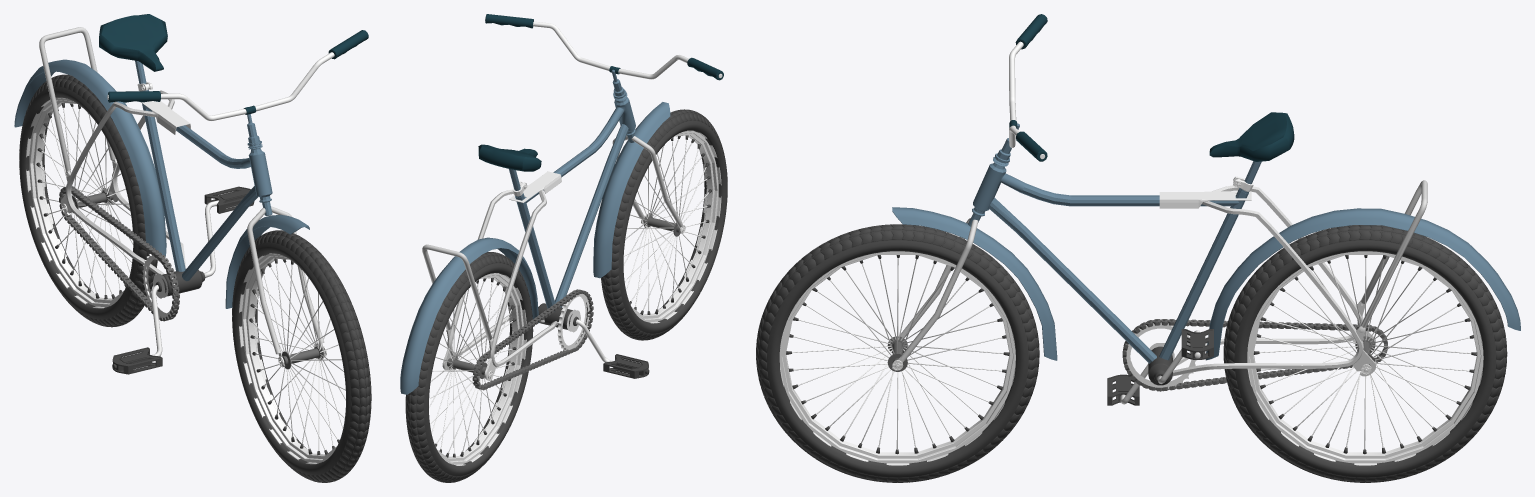
Rendered from Bicycle.fbx.
The picture shows the model from 3 angles, left to right: view 1: azimuth 30°, elevation 25°; view 2: azimuth 150°, elevation 25°; view 3: azimuth 270°, elevation 25°; orthographic projection. The views are drawn at different scales.
Visible parts, largest first — view 1: Plane031, Plane032, Cylinder001, Plane005, Cylinder008, Cylinder007, seat, Box004, Line007, Object006, Plane004, Rectangle002 (+8 smaller); view 2: Plane031, Plane032, Cylinder001, Plane005, Plane004, Cylinder007, Cylinder008, Object006, Box004, Line007, seat, Plane034 (+7 smaller); view 3: Plane031, Plane032, Cylinder001, Plane005, Cylinder007, Cylinder008, Object006, Plane004, seat, Box004, Line007, Rectangle002 (+5 smaller).
Boxes of the visible parts, left/top/right/bottom form: Plane031: left=232, top=230, right=371, bottom=482; Plane032: left=19, top=74, right=157, bottom=327; Cylinder001: left=135, top=60, right=272, bottom=281; Plane005: left=14, top=59, right=166, bottom=256; Cylinder008: left=26, top=97, right=126, bottom=308; Cylinder007: left=239, top=253, right=339, bottom=464; seat: left=99, top=14, right=167, bottom=71; Box004: left=59, top=186, right=179, bottom=321; Line007: left=107, top=30, right=368, bottom=120; Object006: left=65, top=90, right=186, bottom=274; Plane004: left=225, top=214, right=309, bottom=308; Rectangle002: left=39, top=27, right=115, bottom=170; Plane031: left=601, top=109, right=727, bottom=340; Plane032: left=405, top=252, right=533, bottom=482; Cylinder001: left=509, top=69, right=635, bottom=311; Plane005: left=400, top=237, right=539, bottom=394; Plane004: left=593, top=102, right=670, bottom=278; Cylinder007: left=629, top=130, right=721, bottom=323; Cylinder008: left=435, top=273, right=526, bottom=465; Object006: left=447, top=189, right=557, bottom=367; Box004: left=472, top=289, right=593, bottom=390; Line007: left=485, top=14, right=723, bottom=80; seat: left=478, top=144, right=541, bottom=171; Plane034: left=576, top=319, right=649, bottom=378; Plane031: left=756, top=224, right=1039, bottom=482; Plane032: left=1223, top=225, right=1507, bottom=482; Cylinder001: left=968, top=123, right=1261, bottom=363; Plane005: left=1205, top=208, right=1520, bottom=360; Cylinder007: left=779, top=251, right=1015, bottom=465; Cylinder008: left=1247, top=251, right=1483, bottom=465; Object006: left=1172, top=185, right=1363, bottom=376; Plane004: left=892, top=207, right=1057, bottom=360; seat: left=1209, top=112, right=1294, bottom=161; Box004: left=1122, top=319, right=1387, bottom=391; Line007: left=1009, top=14, right=1047, bottom=161; Rectangle002: left=1360, top=180, right=1427, bottom=327.
Bounding box in the file's own units: 64.46 × 86.56 × 150.
